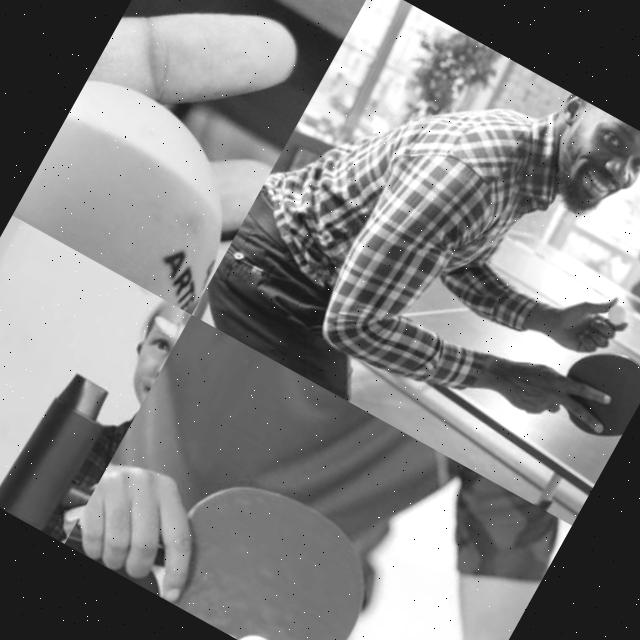ping-pong-ball: (12, 68, 272, 313), (237, 626, 285, 640), (605, 304, 627, 326)
